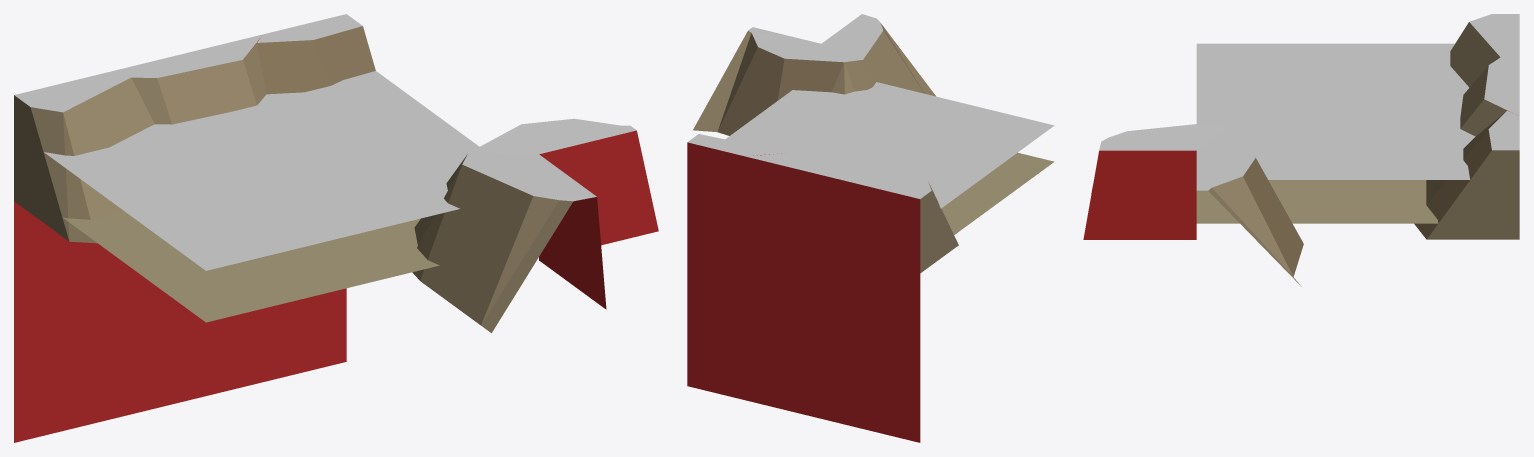
The model's file is Model_Tile_River_3WLTR_LG_RW.fbx.
3 views of the same model, side by side, from view 1: azimuth 30°, elevation 25°; view 2: azimuth 150°, elevation 25°; view 3: azimuth 270°, elevation 25° (orthographic). The views are drawn at different scales.
Parts seen in each view (by area): view 1: Model_Frost_Rivers13; view 2: Model_Frost_Rivers13; view 3: Model_Frost_Rivers13.
Boxes of the visible parts, bbox=[...] form: Model_Frost_Rivers13: bbox=[14, 14, 658, 442]; Model_Frost_Rivers13: bbox=[687, 14, 1054, 442]; Model_Frost_Rivers13: bbox=[1083, 14, 1519, 286].
Size of the model in its own units: 272 by 200 by 270.
